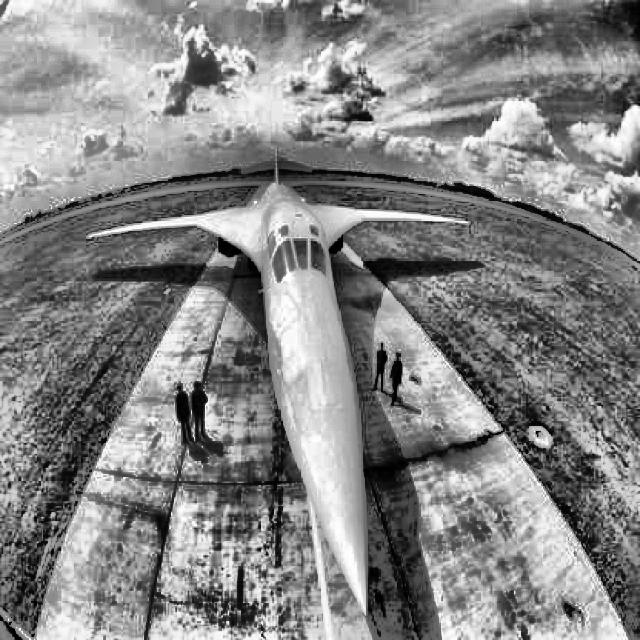Tu160: (85, 120, 470, 618)
